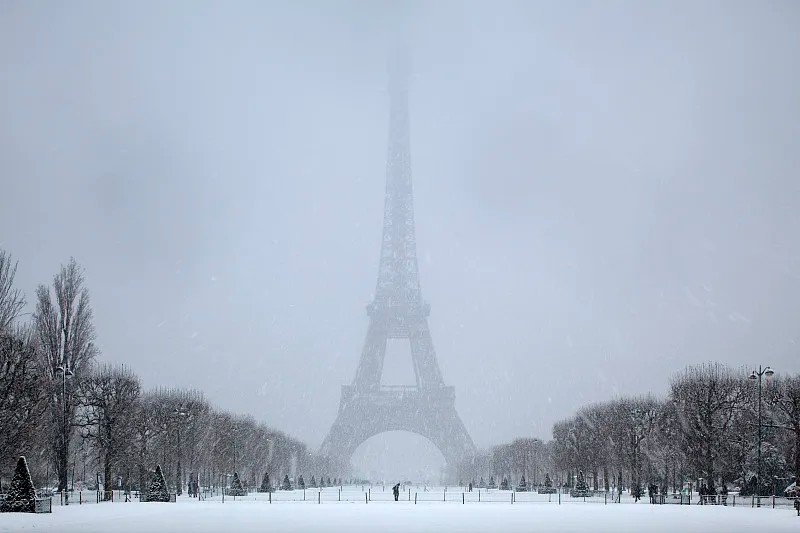Eiffel: (316, 25, 479, 483)
